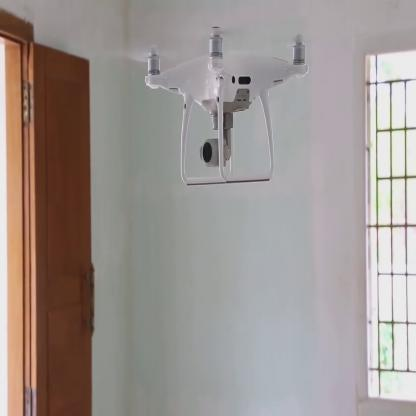drone: (116, 27, 322, 194)
